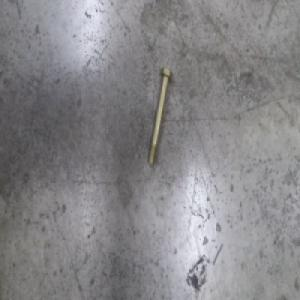Bolt: (145, 65, 173, 167)
